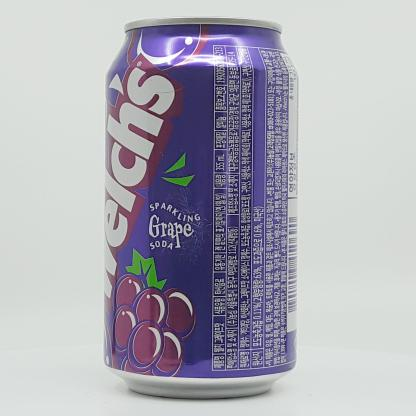alumunium_can: (96, 12, 310, 406)
